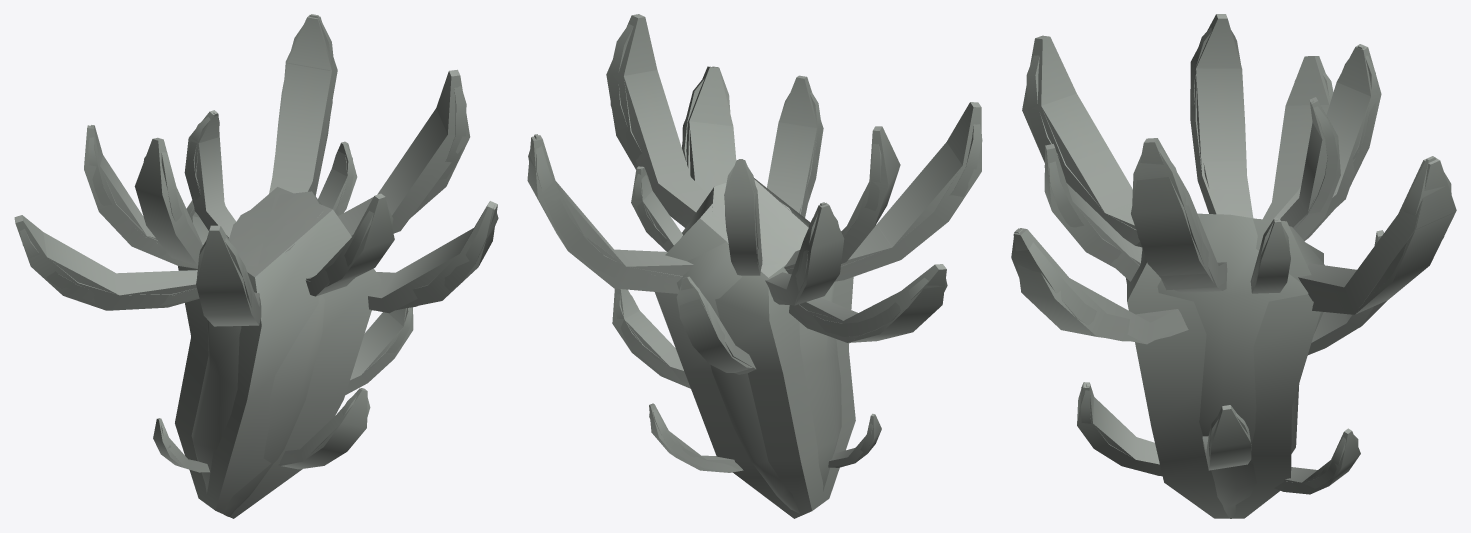
The model's file is Env_plant01_LOD_Mesh.fbx.
3 renders of one model, left to right at view 1: azimuth 30°, elevation 25°; view 2: azimuth 150°, elevation 25°; view 3: azimuth 270°, elevation 25°, orthographic. The views are drawn at different scales.
Parts seen in each view (by area): view 1: Env_plant01_LOD3_Mesh, Env_plant01_LOD2_Mesh, Env_plant01_LOD1_Mesh; view 2: Env_plant01_LOD3_Mesh, Env_plant01_LOD2_Mesh, Env_plant01_LOD1_Mesh; view 3: Env_plant01_LOD3_Mesh, Env_plant01_LOD2_Mesh, Env_plant01_LOD1_Mesh.
Part boxes in pixels (x1,y1,x2,y2): Env_plant01_LOD3_Mesh: (43, 17, 473, 518); Env_plant01_LOD2_Mesh: (14, 15, 497, 516); Env_plant01_LOD1_Mesh: (20, 14, 498, 516); Env_plant01_LOD3_Mesh: (529, 70, 962, 518); Env_plant01_LOD2_Mesh: (527, 14, 981, 513); Env_plant01_LOD1_Mesh: (528, 24, 982, 502); Env_plant01_LOD3_Mesh: (1041, 68, 1454, 518); Env_plant01_LOD2_Mesh: (1013, 14, 1456, 518); Env_plant01_LOD1_Mesh: (1011, 27, 1451, 507).
Bounding box in the file's own units: 118 × 122 × 100.
